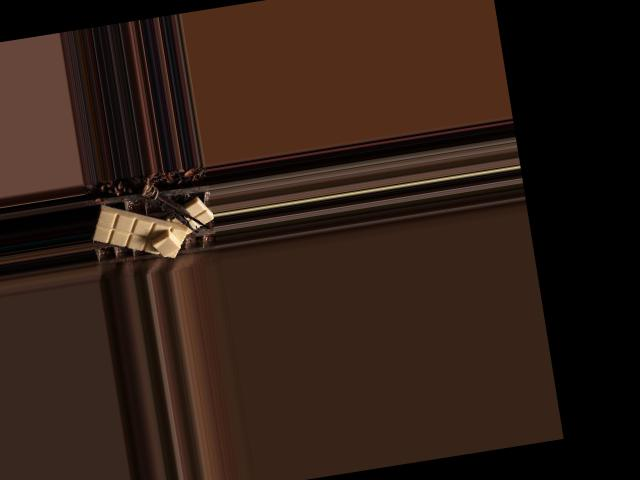chocolate: (89, 194, 194, 269)
